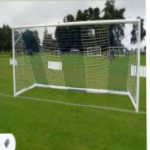goals: (10, 18, 141, 114)
